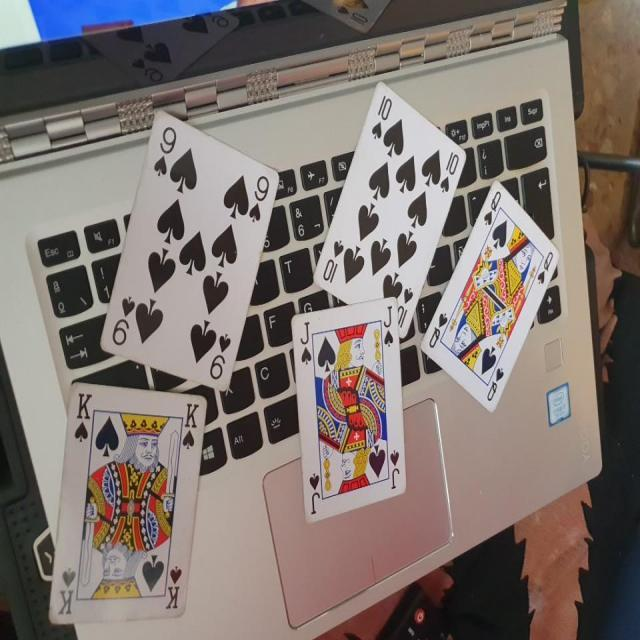10 of spades: (304, 75, 466, 348)
9 of spades: (91, 101, 282, 400)
jack of spades: (287, 298, 415, 530)
king of spades: (38, 376, 206, 612)
queen of spades: (417, 185, 560, 422)
